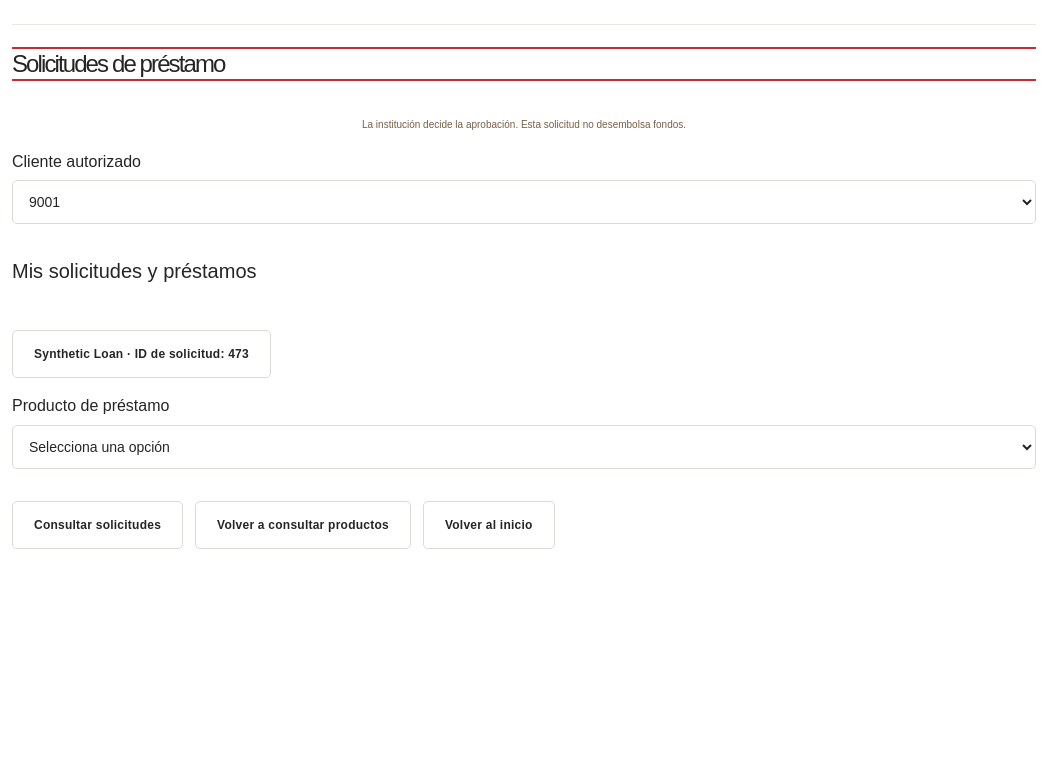
Scenario: displays defaults, validates before review, submits once and focuses the readback
The image size is (1048, 768).
Select "Synthetic Loan" in the dropdown labelled "Producto de préstamo" at (524, 447), box [12, 425, 1036, 469]
(page scrolled)
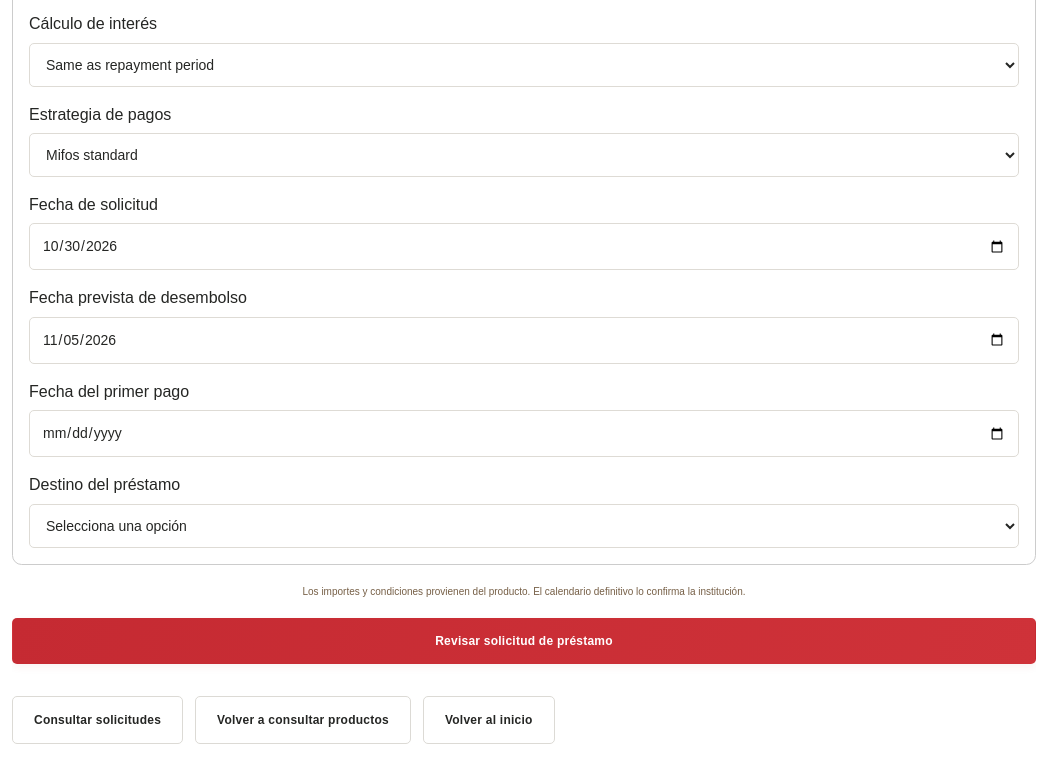
Click the button "Revisar solicitud de préstamo" at (524, 641), box [12, 618, 1036, 664]
(page scrolled)
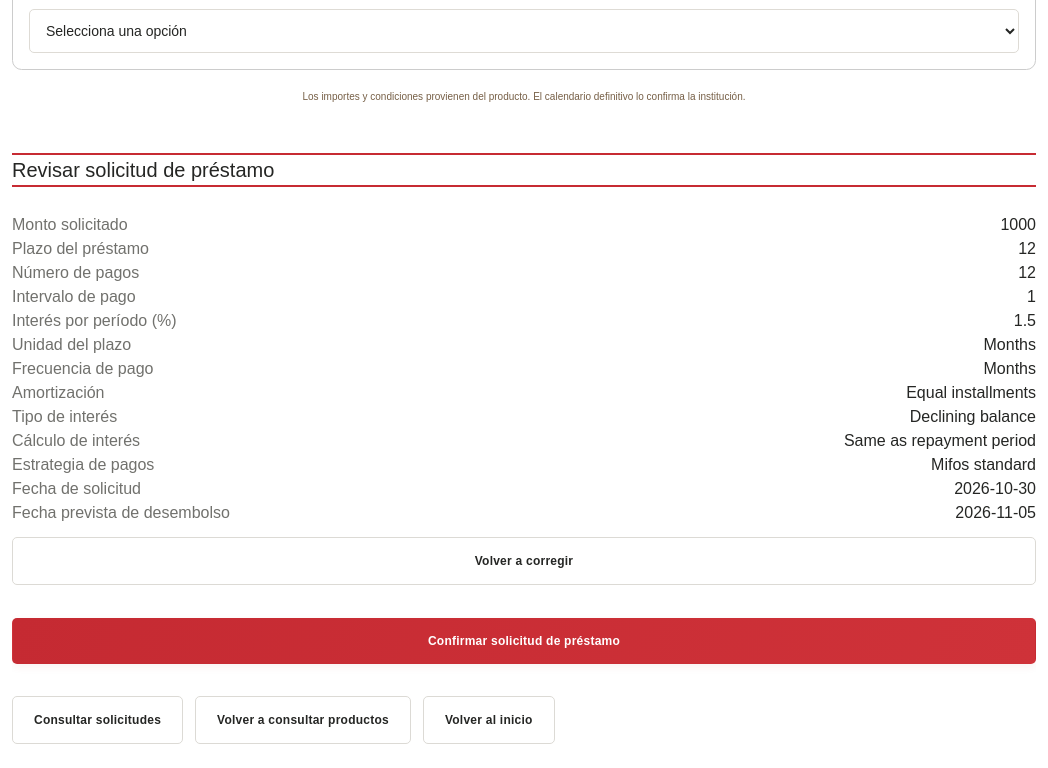
Result: the element "Revisar solicitud de préstamo" is shown at [12, 139, 1036, 585]
Click the button "Confirmar solicitud de préstamo" at (524, 641), box [12, 618, 1036, 664]
(page scrolled)
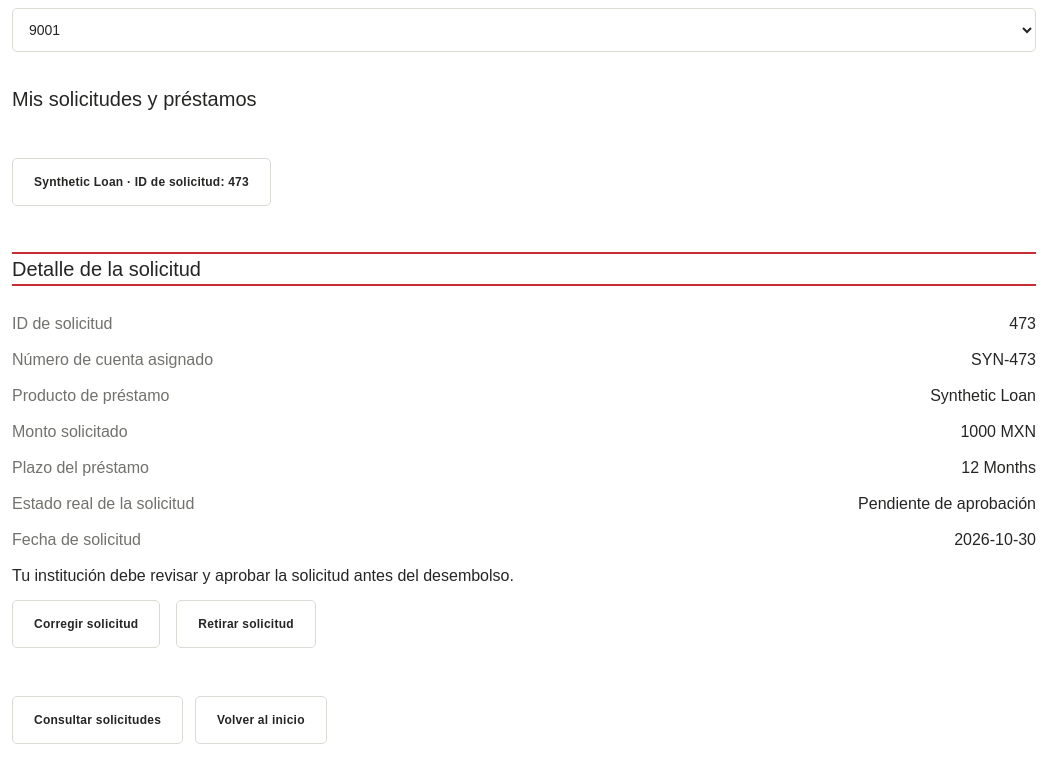
Result: the heading "Detalle de la solicitud" is shown at [12, 258, 201, 280]
Result: the text "Pendiente de aprobación" is shown at [858, 495, 1036, 512]
